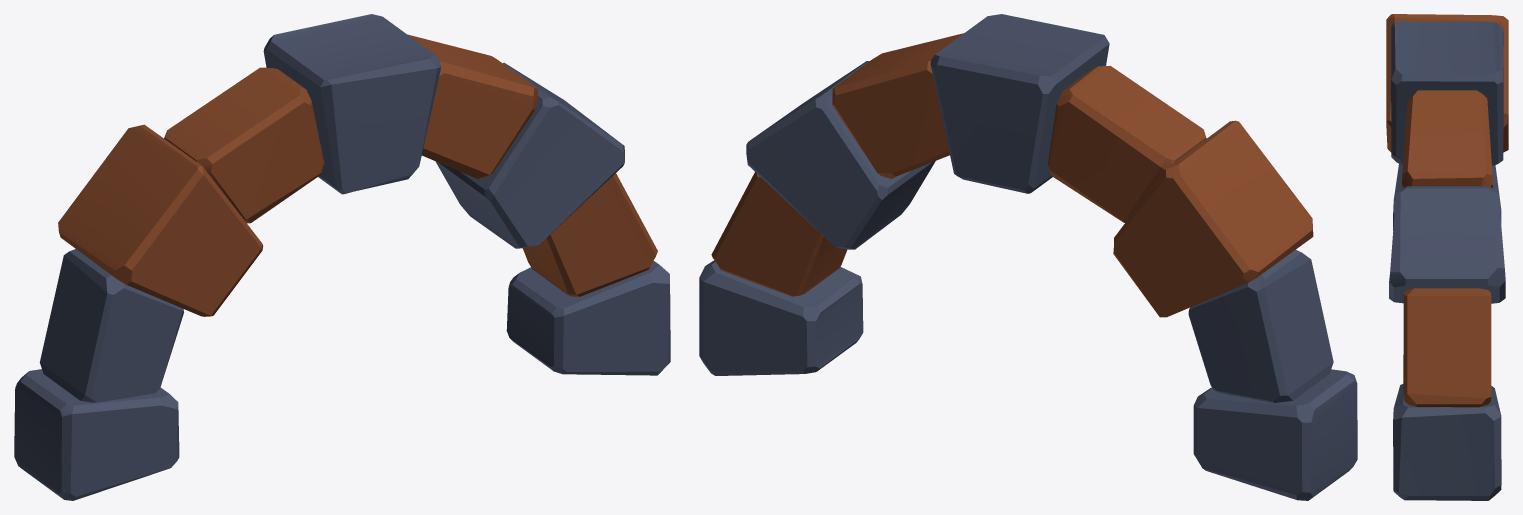
Rendered from Arche.fbx.
The picture shows the model from 3 angles, left to right: view 1: azimuth 30°, elevation 25°; view 2: azimuth 150°, elevation 25°; view 3: azimuth 270°, elevation 25°; orthographic projection. The views are drawn at different scales.
Parts seen in each view (by area): view 1: Stone_LP3.020; view 2: Stone_LP3.020; view 3: Stone_LP3.020.
Part boxes in pixels (x1,y1,x2,y2): Stone_LP3.020: (14, 14, 670, 500); Stone_LP3.020: (699, 14, 1357, 500); Stone_LP3.020: (1386, 14, 1508, 500).
Bounding box in the file's own units: 553 × 332 × 110.
